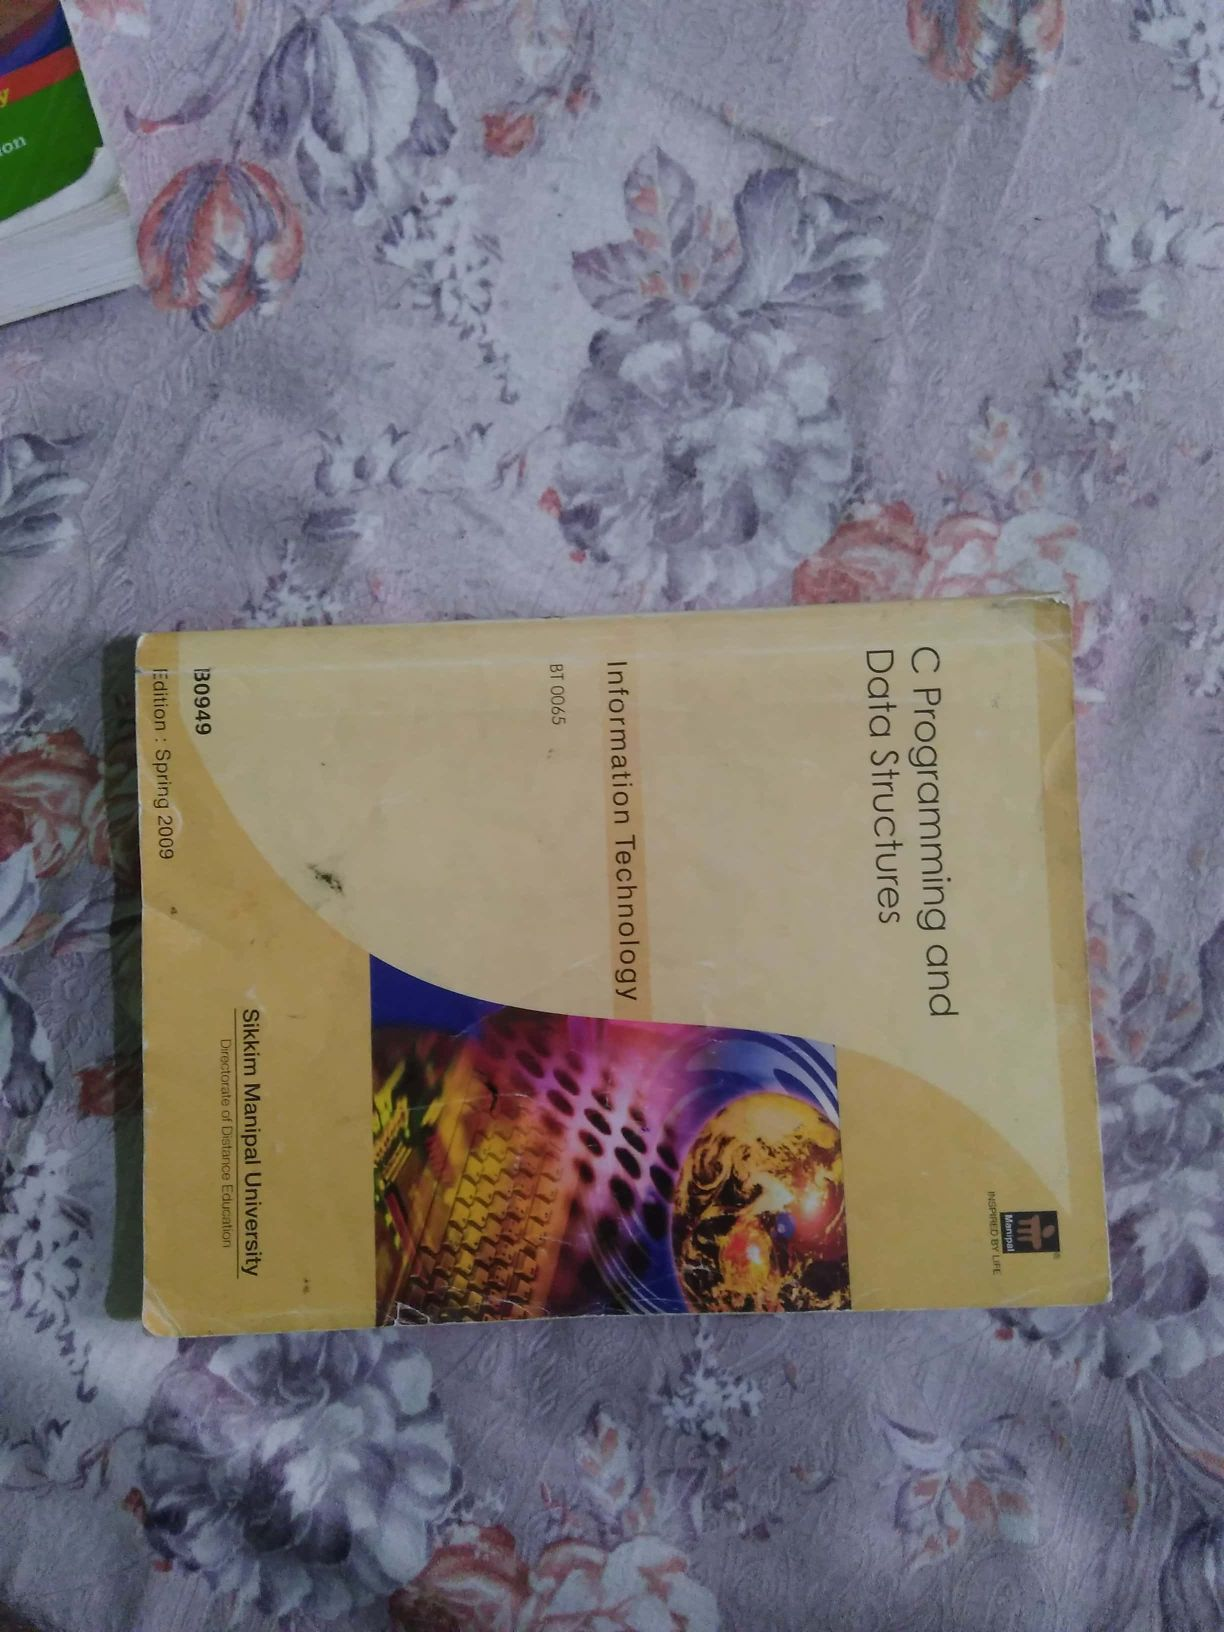clang: (75, 526, 1202, 1360)
